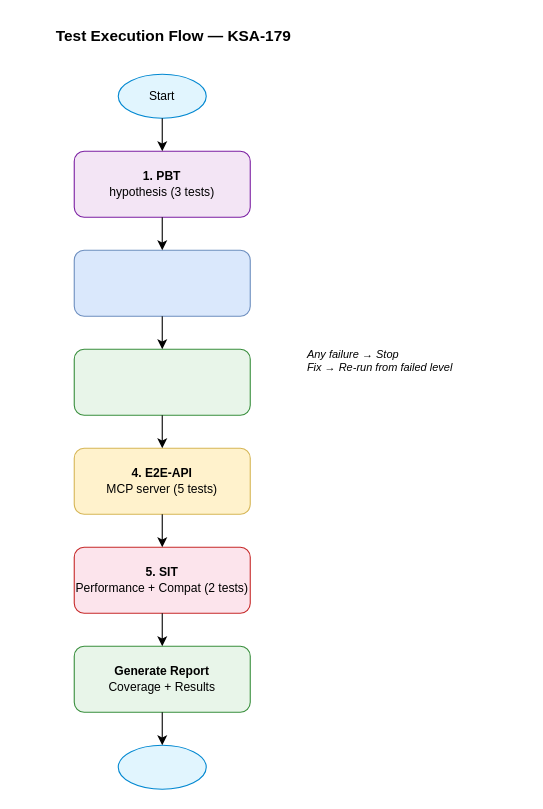
Image size: 543x809. Some labels were removed from this diagram. The shapes that lost their labels are listed below. From the top down, each one's centre as x and y in pixels, then its label:
At [161,282]: "2. Unit Tests pytest (39 tests)".
At [161,381]: "3. Integration Tests Real SQLite (6 tests)".
At [161,766]: "Done".
